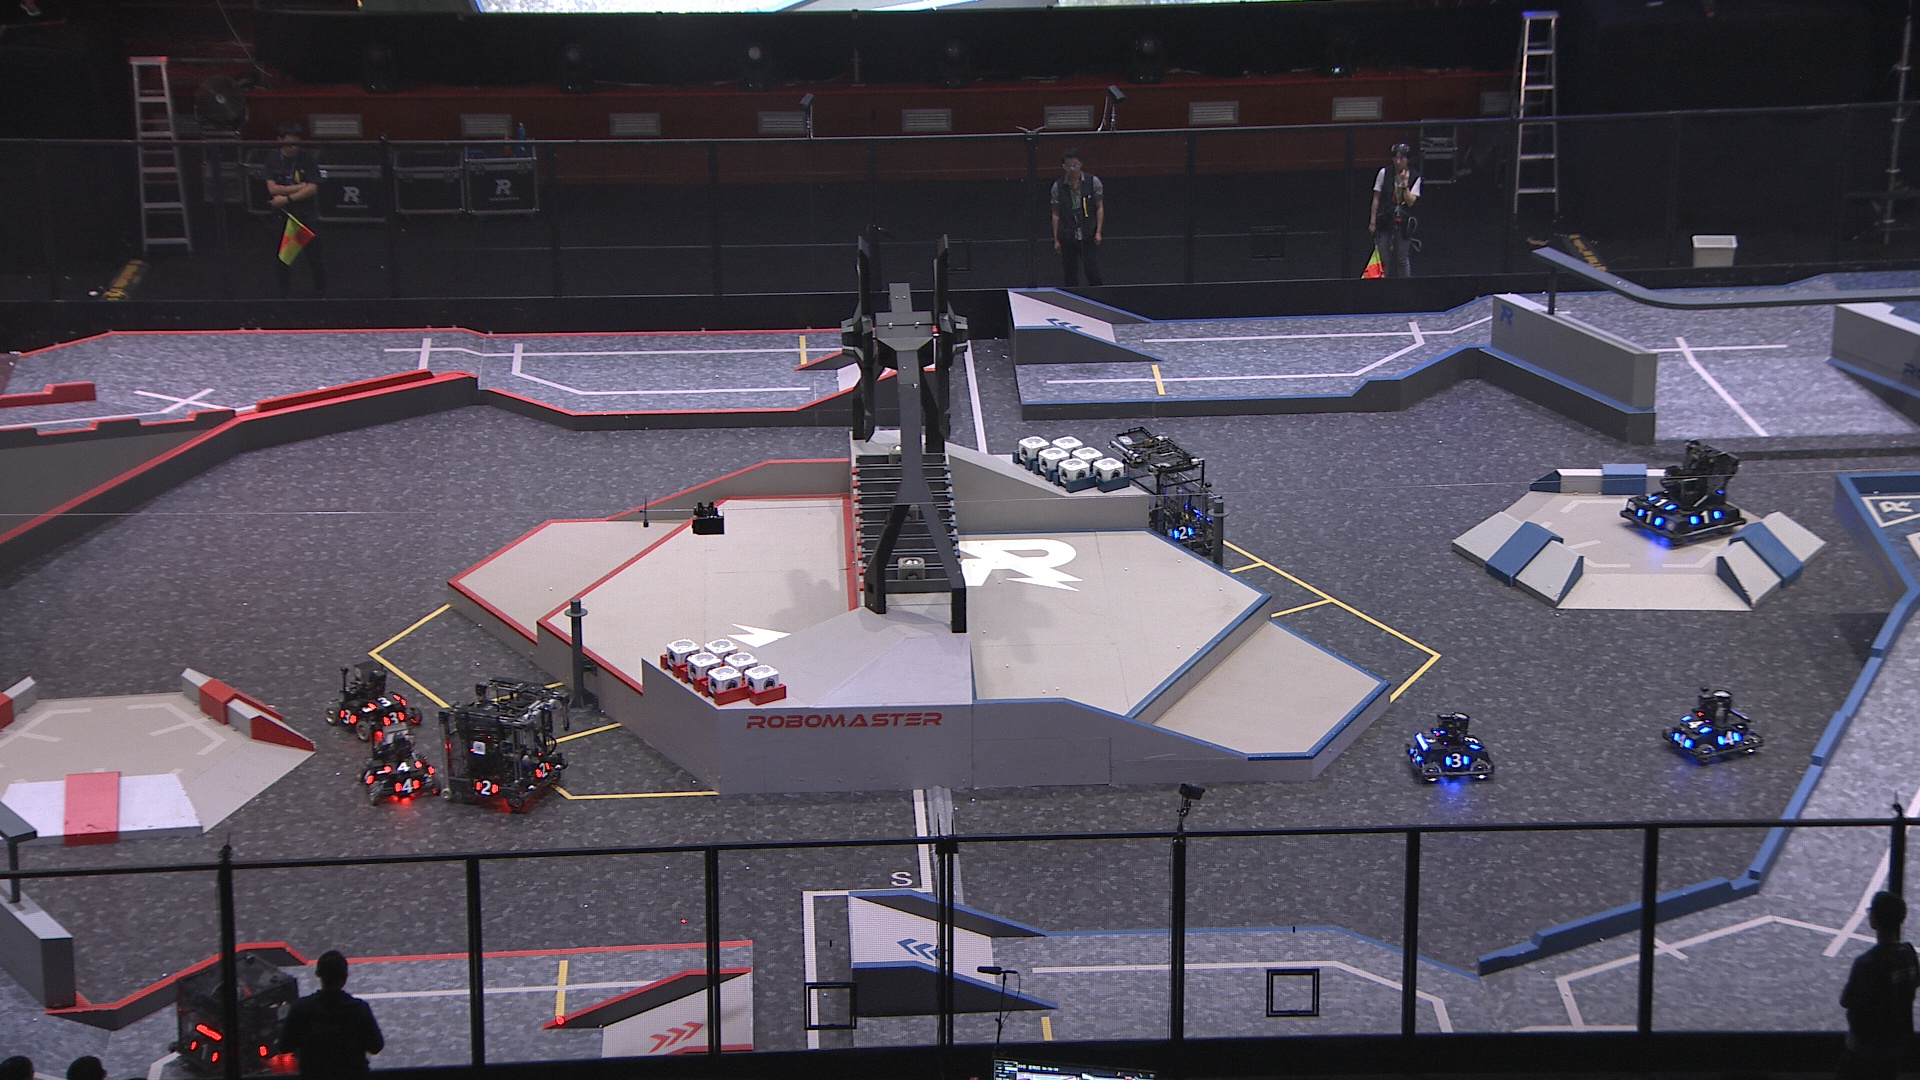armor: (261, 1035, 295, 1058), (191, 1040, 216, 1065), (1689, 509, 1724, 526), (392, 778, 423, 794), (1683, 713, 1708, 733), (473, 777, 498, 796), (1644, 495, 1675, 510), (386, 761, 419, 775), (1673, 731, 1693, 754), (1634, 508, 1662, 524), (534, 760, 553, 782), (1444, 752, 1468, 769), (1168, 526, 1196, 541), (371, 694, 398, 708), (335, 709, 357, 727), (381, 712, 405, 727), (1718, 731, 1738, 746), (363, 764, 375, 787), (1465, 733, 1480, 752), (1410, 746, 1423, 766)
car: (173, 951, 323, 1080), (436, 679, 564, 814), (1109, 433, 1224, 564), (1626, 438, 1746, 543), (1664, 688, 1760, 767), (328, 661, 423, 737), (356, 727, 436, 806), (1404, 713, 1489, 787)
